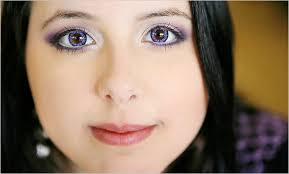pupil: (68, 30, 87, 46), (150, 26, 168, 42)
